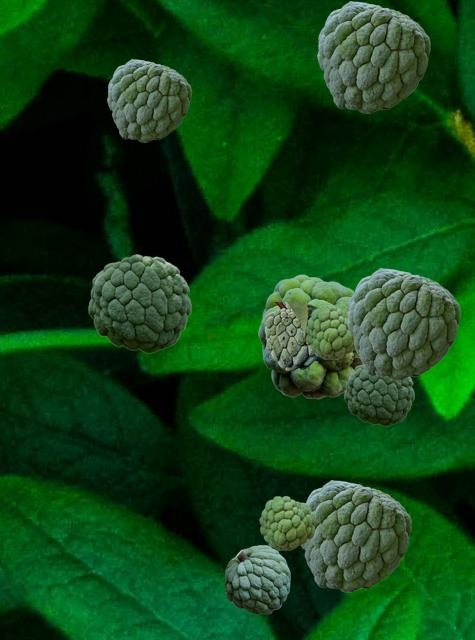atis: (258, 274, 361, 398), (347, 268, 459, 379), (317, 1, 429, 112), (301, 480, 410, 591), (88, 254, 190, 352), (107, 59, 190, 141), (263, 302, 347, 370), (225, 545, 289, 613), (344, 364, 413, 425), (259, 496, 314, 549), (305, 305, 354, 358)
